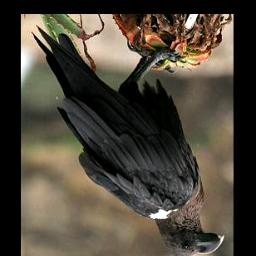Crow: (30, 26, 221, 256)
